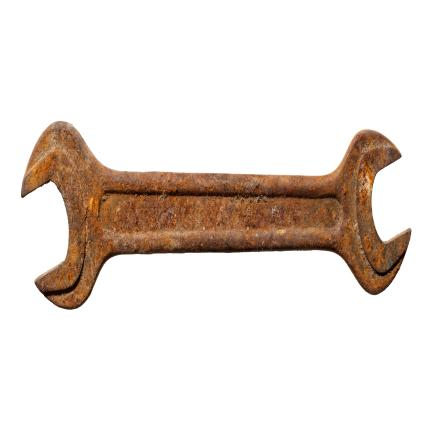karat: (21, 121, 411, 309), (355, 146, 411, 273)
